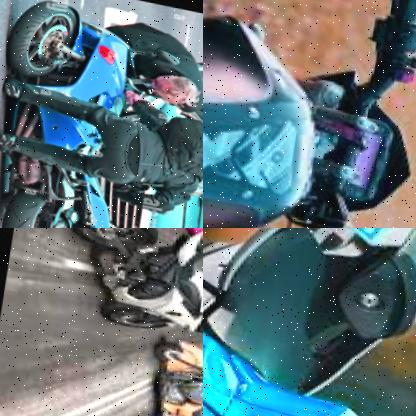bike: (203, 0, 416, 228), (203, 228, 416, 416), (70, 228, 203, 350), (152, 336, 203, 416)
car: (66, 116, 203, 228)
